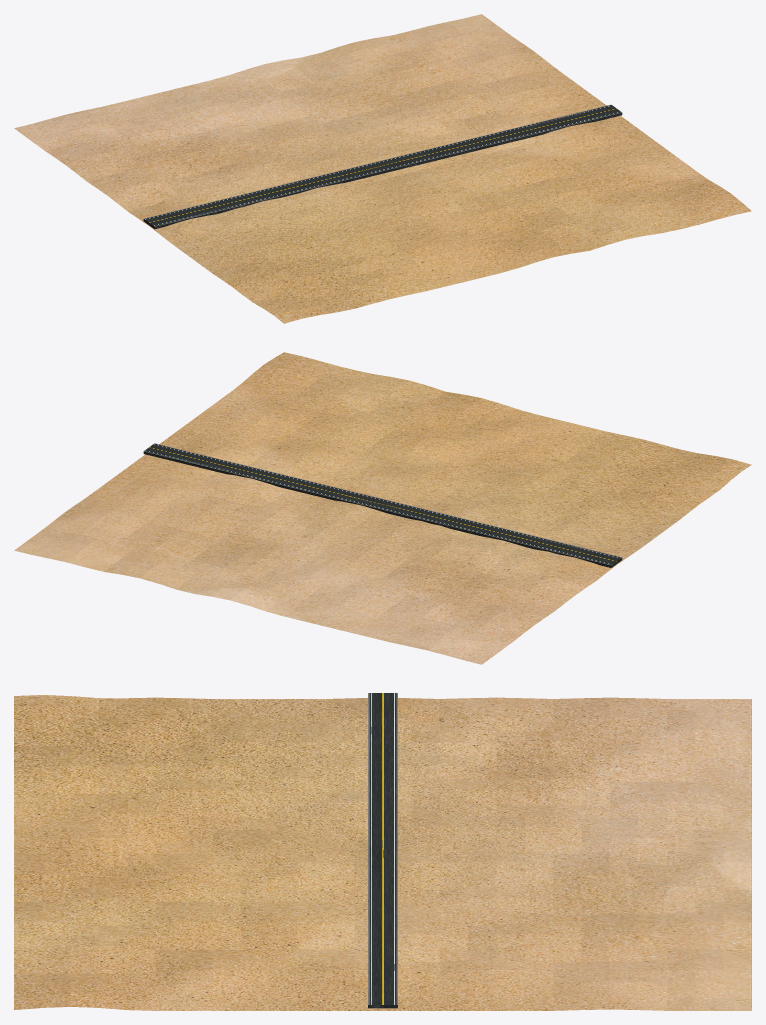
The model's file is дорога.fbx.
The picture shows the model from 3 angles, top to bottom: view 1: azimuth 30°, elevation 25°; view 2: azimuth 150°, elevation 25°; view 3: azimuth 270°, elevation 25°; orthographic projection. The views are drawn at different scales.
Parts seen in each view (by area): view 1: Plane; view 2: Plane; view 3: Plane.
Part boxes in pixels (bbox=[...]): Plane: bbox=[14, 14, 751, 323]; Plane: bbox=[14, 352, 751, 664]; Plane: bbox=[14, 693, 751, 1010].
Bounding box in the file's own units: 4871 × 43.75 × 4871.
2 materials, 2 textured.
